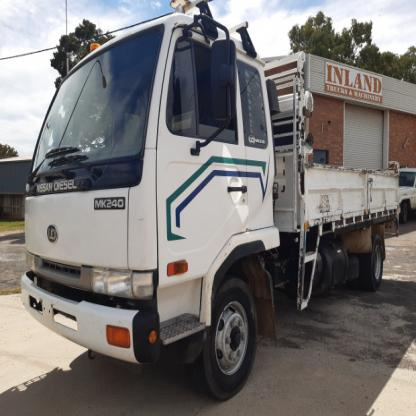dump_truck: (13, 12, 404, 398)
